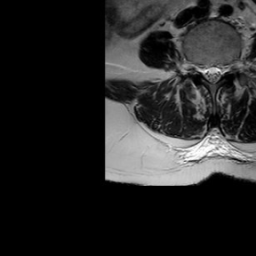CCS_normal: (209, 56, 216, 90)
LFS_normal: (223, 53, 231, 79)
LLS_normal: (216, 57, 223, 85)
RFS_normal: (194, 53, 202, 81)
RLS_normal: (202, 56, 209, 86)
